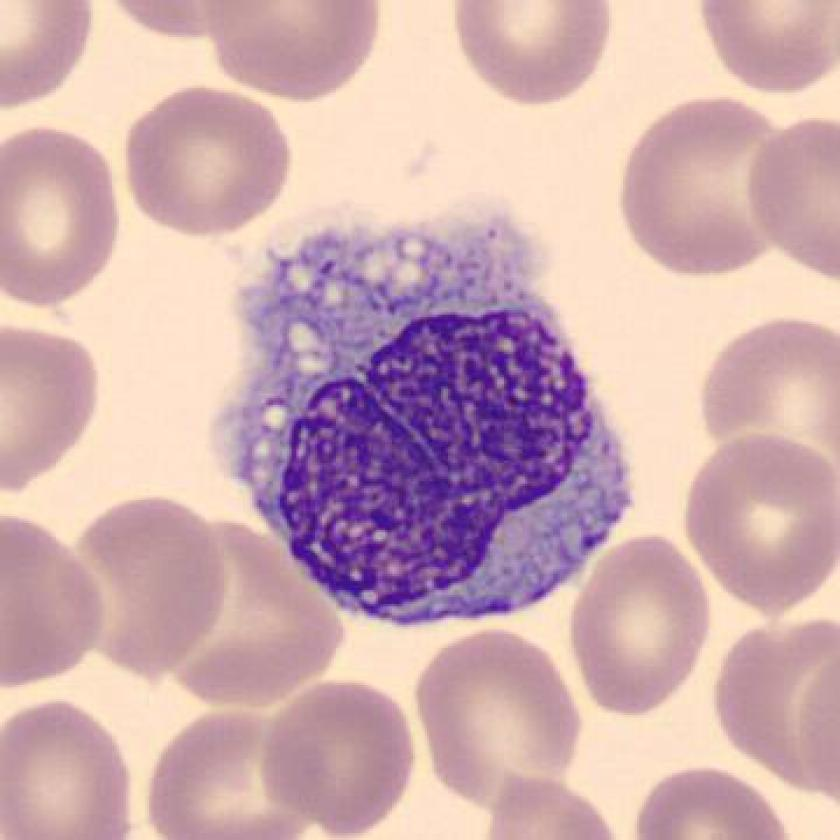monocyte: (188, 186, 652, 640)
